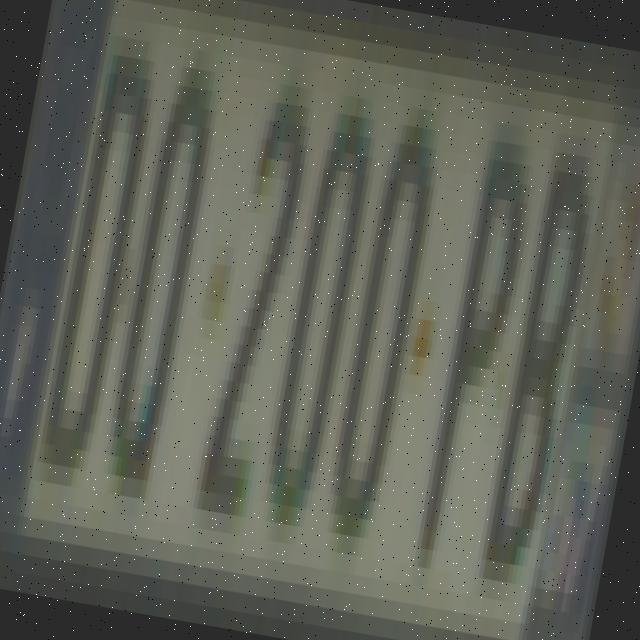EU: (0, 0, 640, 640)
France: (0, 0, 117, 553)
